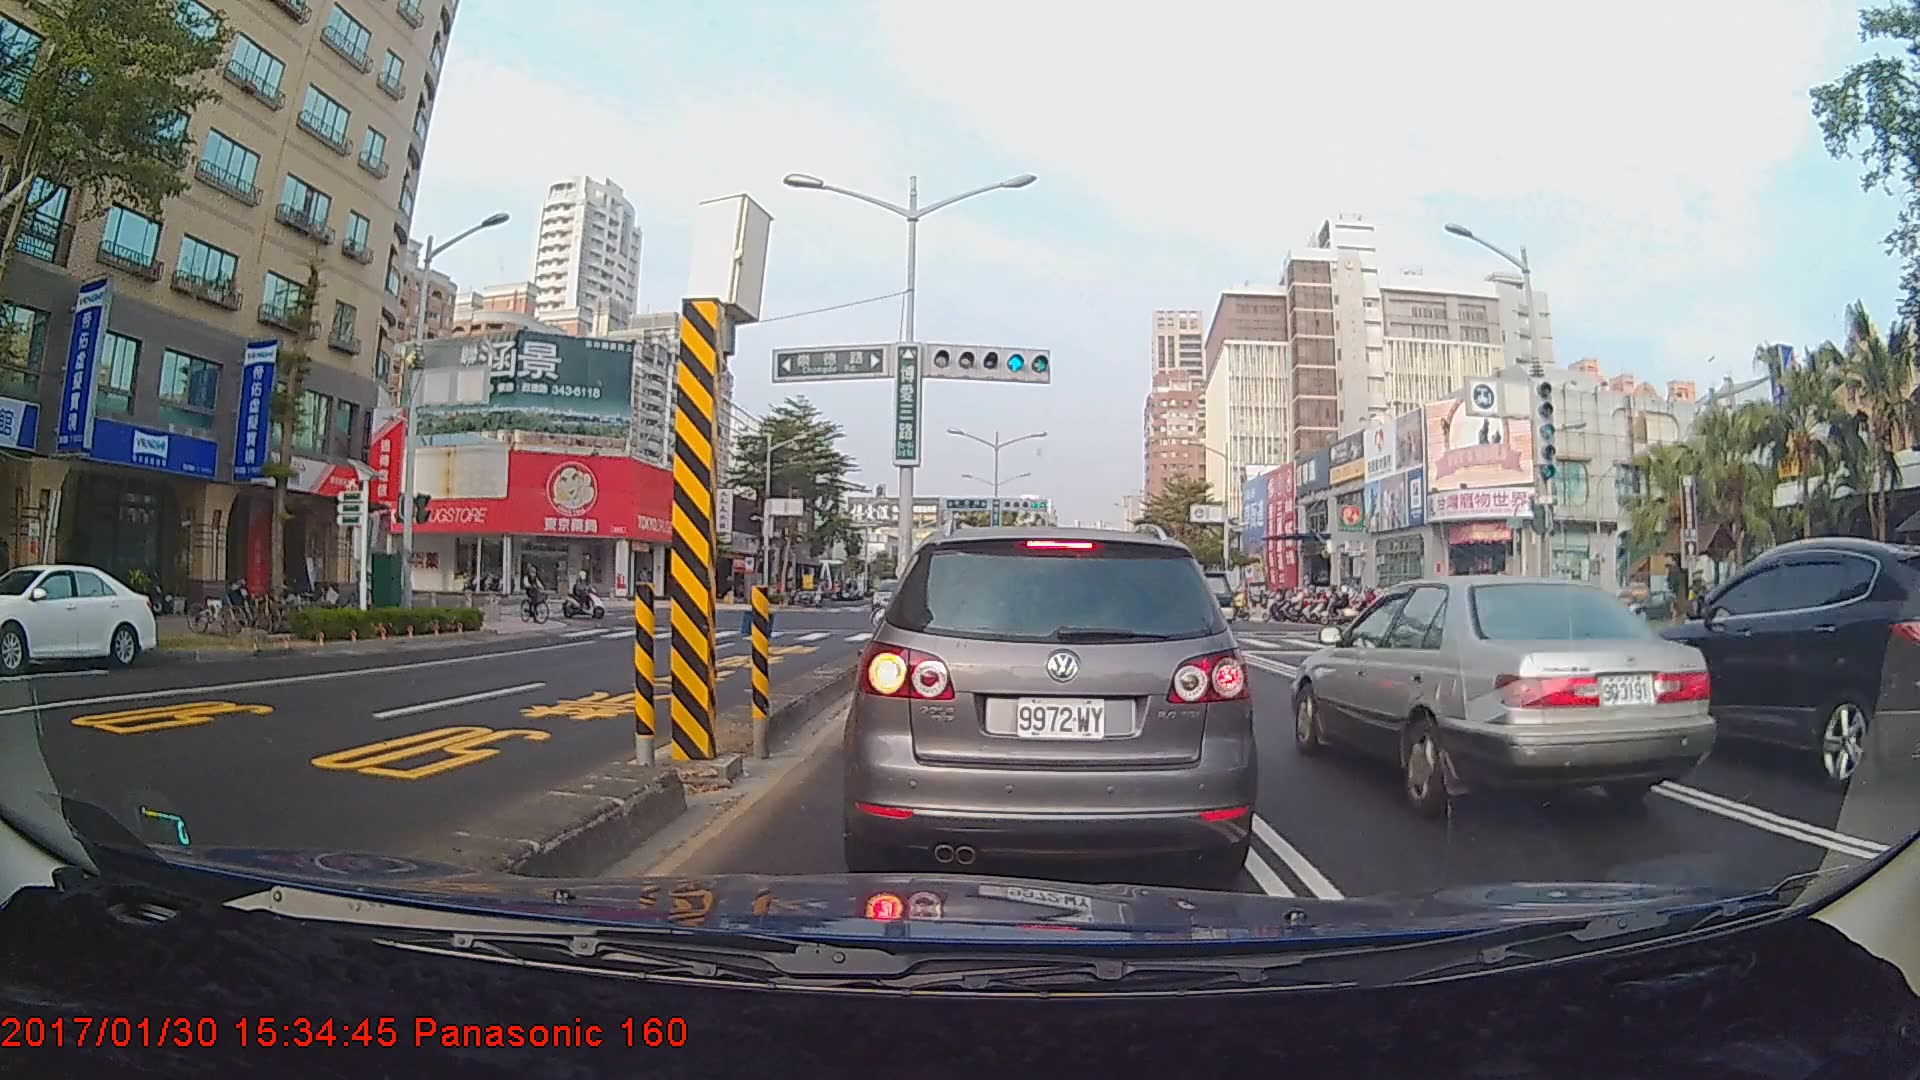rider: (518, 559, 561, 629), (564, 568, 615, 625)
vehicle: (852, 523, 1252, 875), (1286, 572, 1719, 819), (1641, 532, 1920, 790), (0, 561, 161, 671), (1154, 567, 1235, 636)
